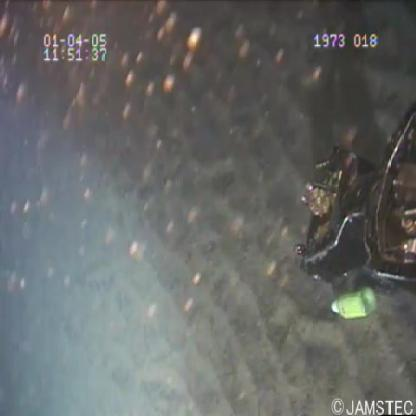Rov: (294, 91, 416, 287)
Rác: (329, 282, 380, 325)
